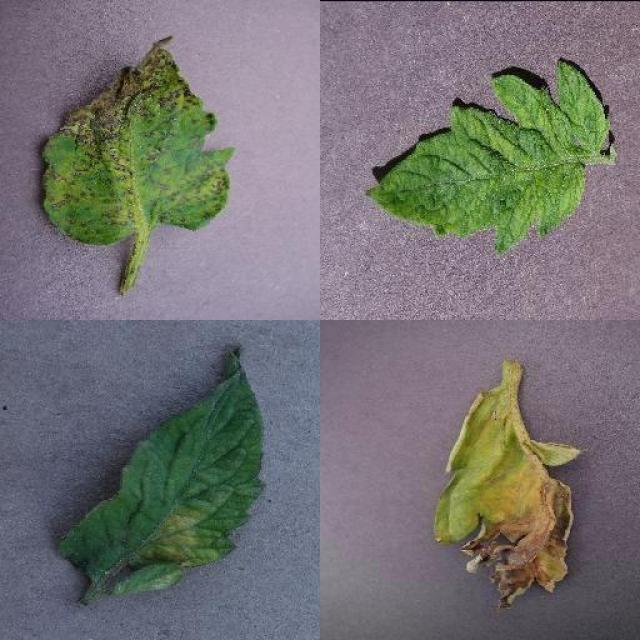Late Blight: (434, 383, 585, 615)
Septoria: (41, 35, 238, 244)
